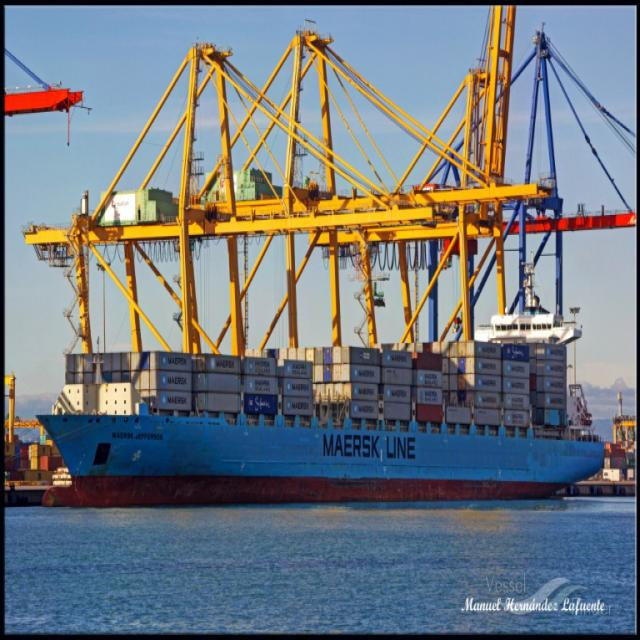Container Ship: (37, 253, 605, 506)
